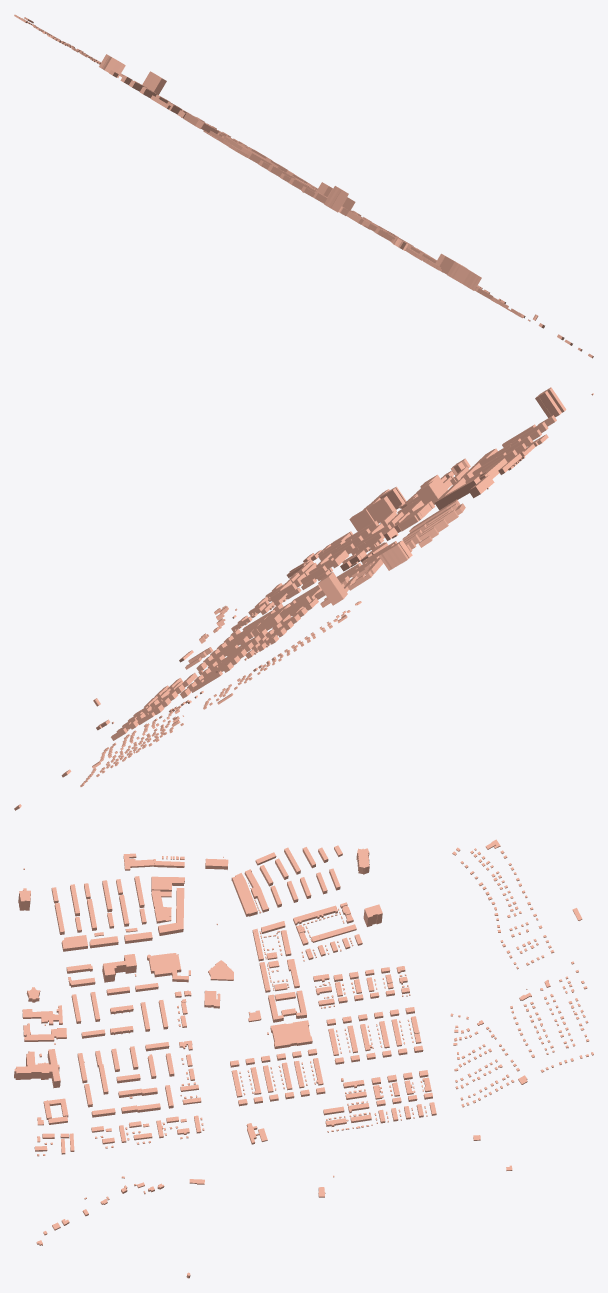
3 views of the same model, one above another, from view 1: azimuth 30°, elevation 25°; view 2: azimuth 150°, elevation 25°; view 3: azimuth 270°, elevation 25° (orthographic). The views are drawn at different scales.
Bounding box in the file's own units: 861 × 633 × 1225.
